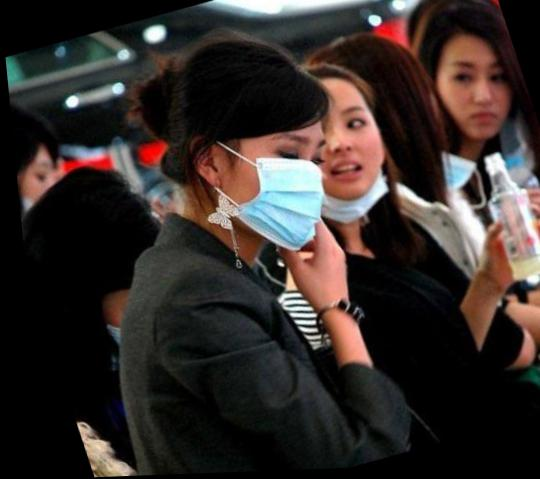NONE: (428, 52, 525, 149)
OK: (195, 120, 345, 263)
WRONG: (285, 106, 393, 222)
